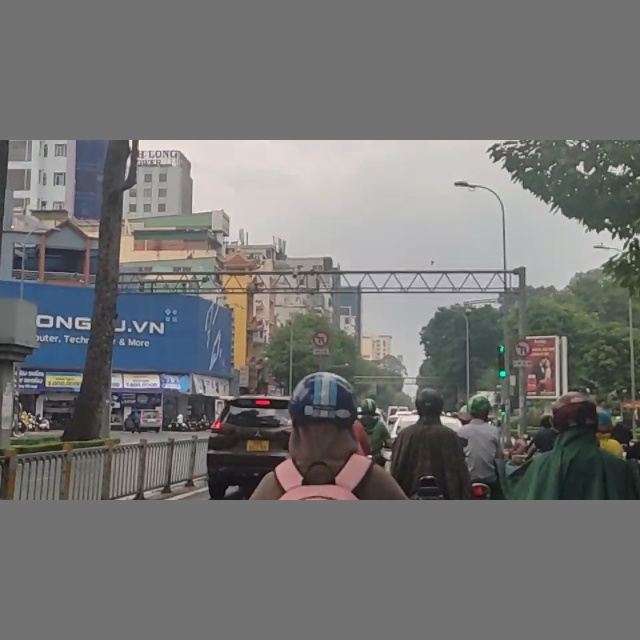P.124c: (313, 331, 332, 349), (515, 340, 533, 357)
